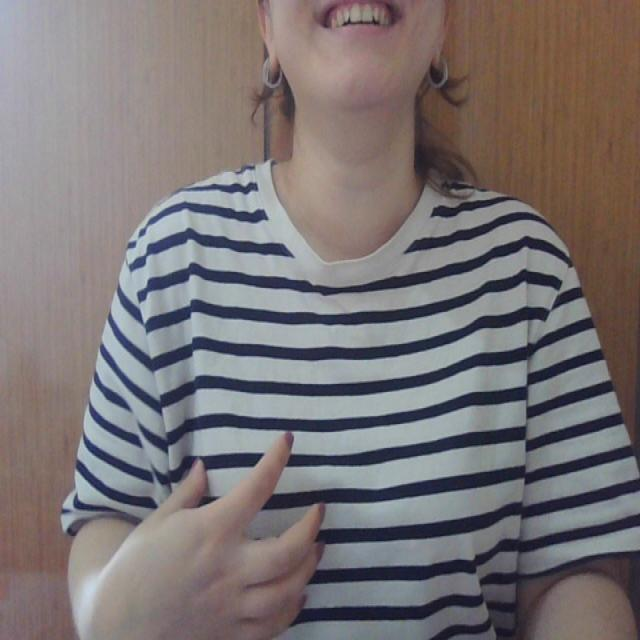Anne: (153, 403, 509, 640)
